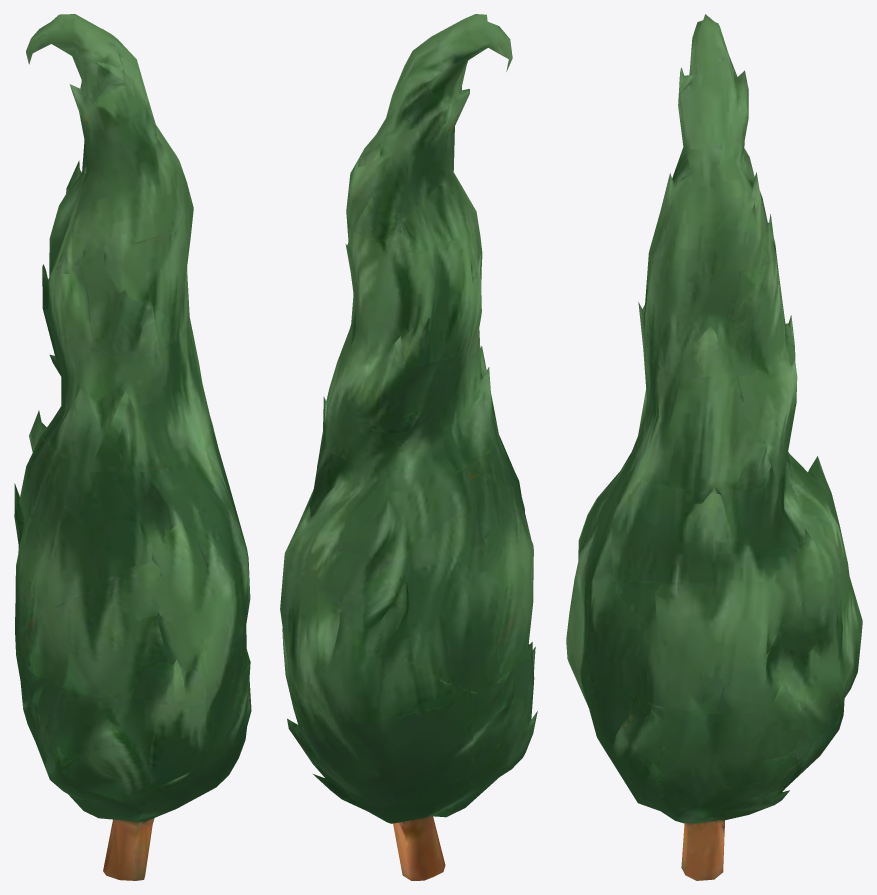
File: cypress.glb
3 views of the same model, side by side, from view 1: azimuth 30°, elevation 25°; view 2: azimuth 150°, elevation 25°; view 3: azimuth 270°, elevation 25° (orthographic). The views are drawn at different scales.
Bounding box in the file's own units: 0.4662 × 1.9 × 0.6143.
Materials: 1 (1 with a texture image).
